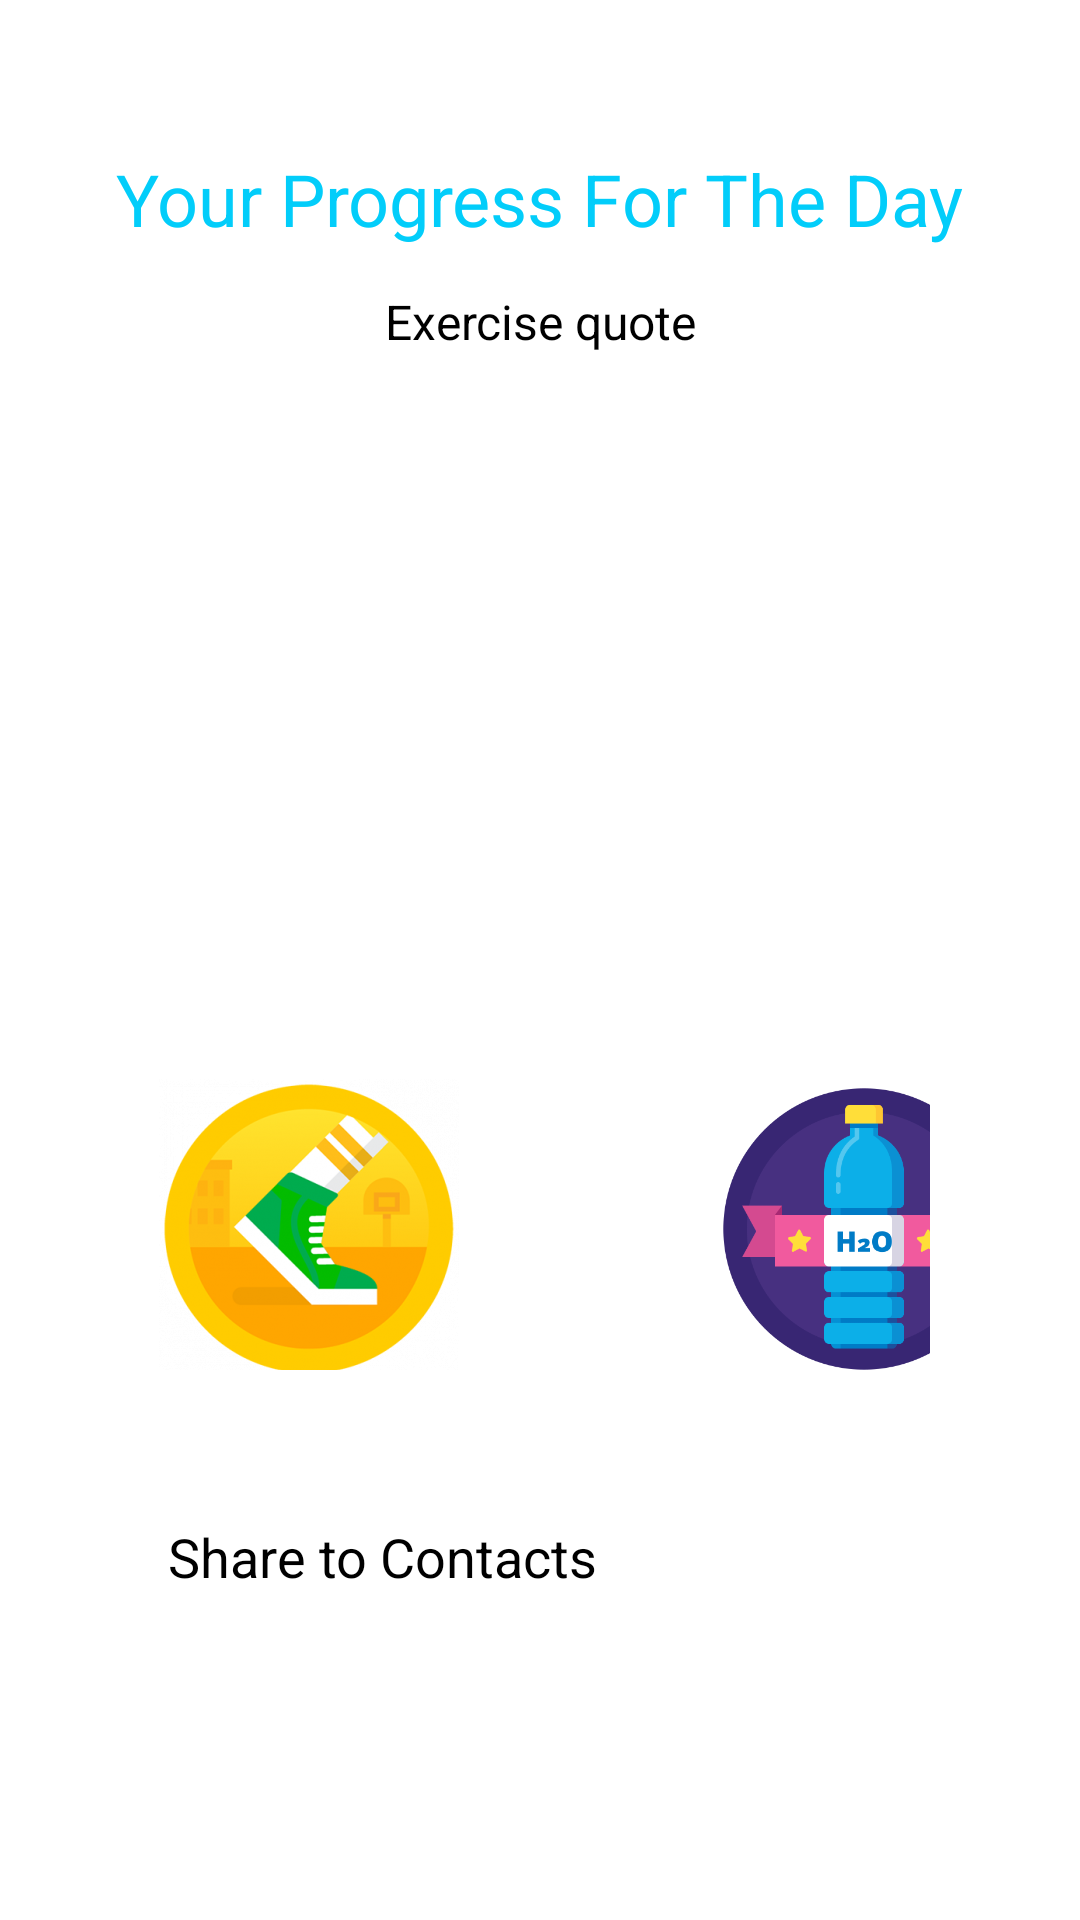

Screen size 1080px×1920px. Icon name, then its center in pixels as point (x, y):
dailystep: point (309, 1227)
